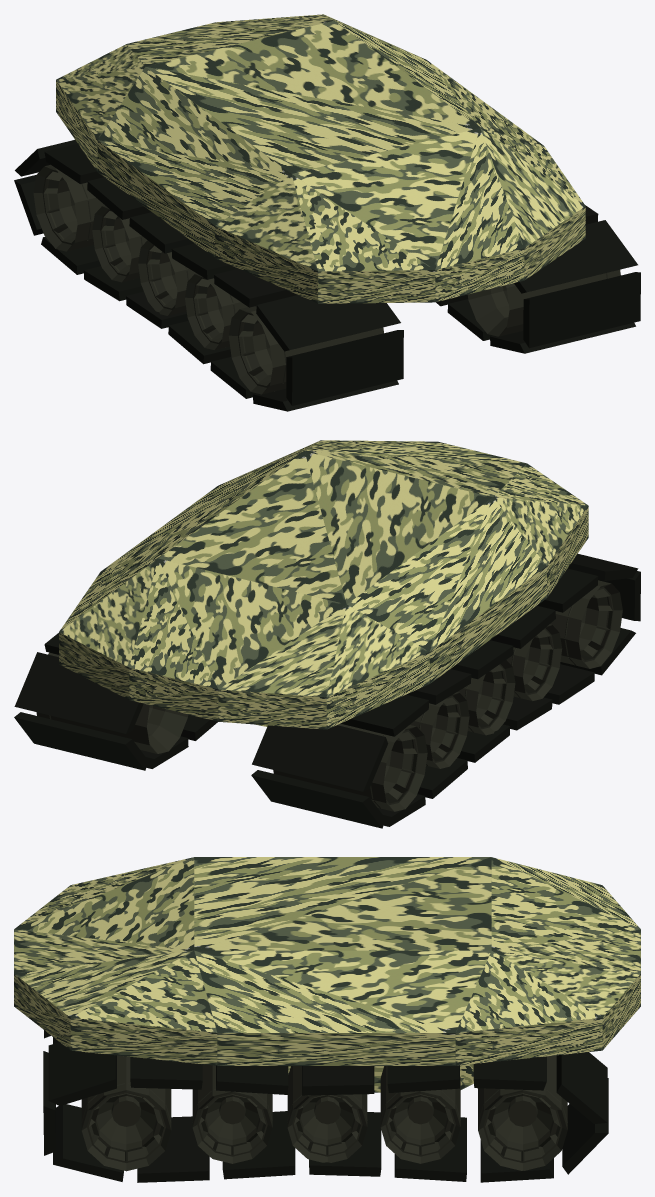
File: tank_bottm_texture.obj
3 views of the same model, one above another, from view 1: azimuth 30°, elevation 25°; view 2: azimuth 150°, elevation 25°; view 3: azimuth 270°, elevation 25° (orthographic).
Visible parts, largest first — view 1: Cube.003_Cube, Cube.002, Cylinder.001_Cylinder.002, Cube.000_Cube.001, Cylinder.010_Cylinder.011; view 2: Cube.003_Cube, Cube.002, Cylinder.001_Cylinder.002, Cube.000_Cube.001, Cylinder.010_Cylinder.011; view 3: Cube.003_Cube, Cube.000_Cube.001, Cylinder.010_Cylinder.011.
Boxes of the visible parts, box(x1,y1,x2,y2) form: Cube.003_Cube: box(56, 14, 585, 303); Cube.002: box(14, 140, 403, 411); Cylinder.001_Cylinder.002: box(33, 164, 383, 394); Cube.000_Cube.001: box(436, 205, 640, 353); Cylinder.010_Cylinder.011: box(467, 269, 620, 336); Cube.003_Cube: box(59, 440, 588, 729); Cube.002: box(251, 554, 640, 828); Cylinder.001_Cylinder.002: box(273, 580, 622, 811); Cube.000_Cube.001: box(14, 633, 217, 770); Cylinder.010_Cylinder.011: box(36, 652, 188, 753); Cube.003_Cube: box(14, 857, 640, 1092); Cube.000_Cube.001: box(43, 1042, 608, 1182); Cylinder.010_Cylinder.011: box(81, 1055, 567, 1171).
Size of the model in its own units: 4.2 by 2.15 by 6.44.
3 materials, 1 textured.
